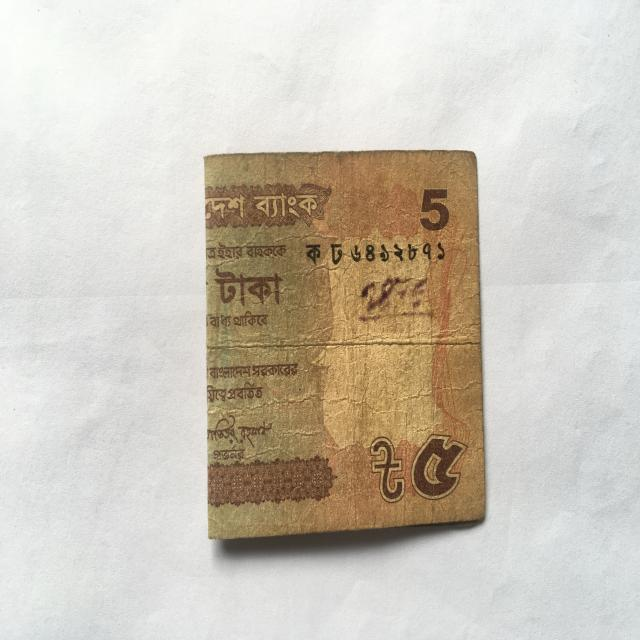Taka: (198, 152, 494, 534)
